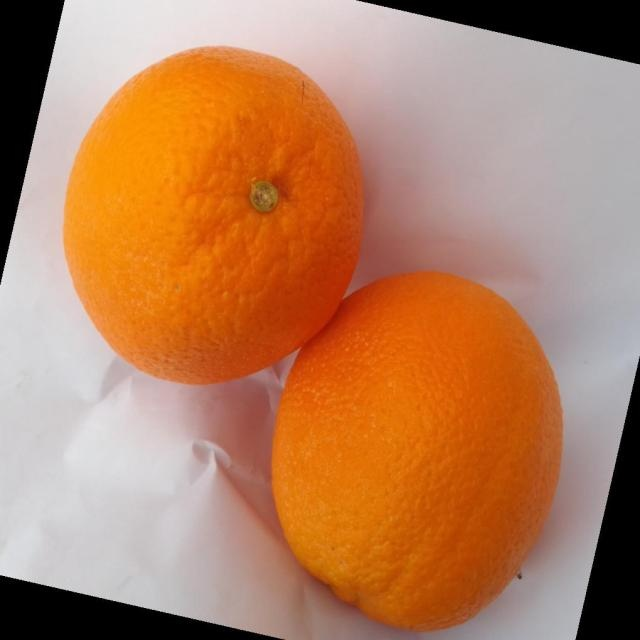agrume: (270, 268, 564, 632), (62, 43, 365, 386)
